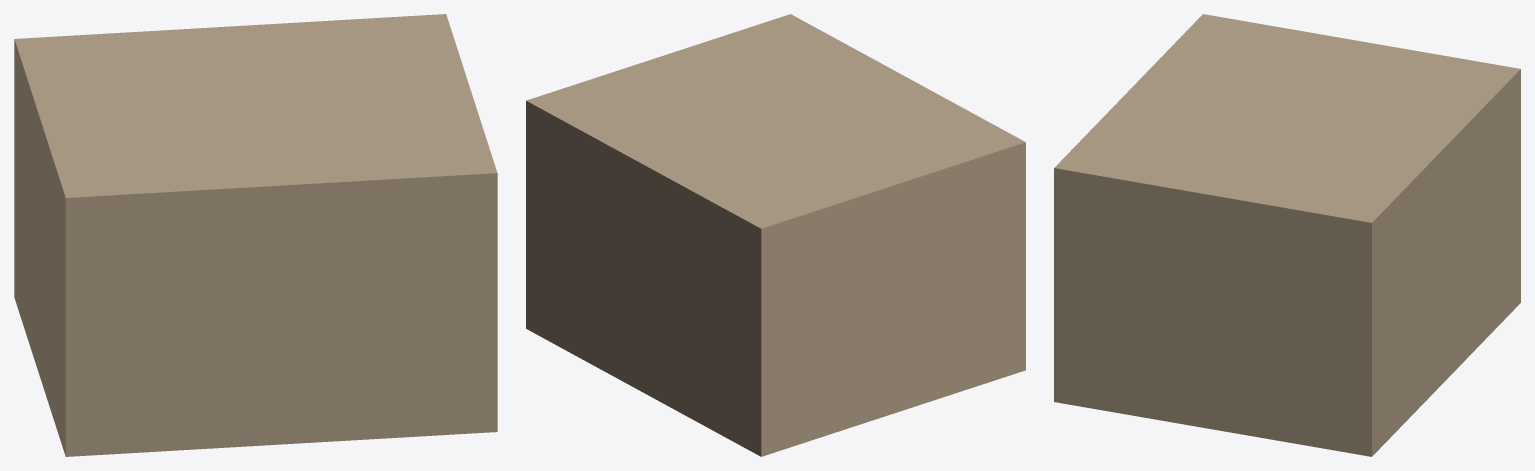
The model's file is bld_99519828.dae.
3 renders of one model, left to right at view 1: azimuth 30°, elevation 25°; view 2: azimuth 150°, elevation 25°; view 3: azimuth 270°, elevation 25°, orthographic. The views are drawn at different scales.
Visible parts, largest first — view 1: bld_99519828; view 2: bld_99519828; view 3: bld_99519828.
Boxes of the visible parts, x1,y1,x2,y2 form: bld_99519828: (14, 14, 497, 456); bld_99519828: (526, 14, 1025, 456); bld_99519828: (1054, 14, 1520, 456).
Size of the model in its own units: 15.32 by 14.46 by 8.
